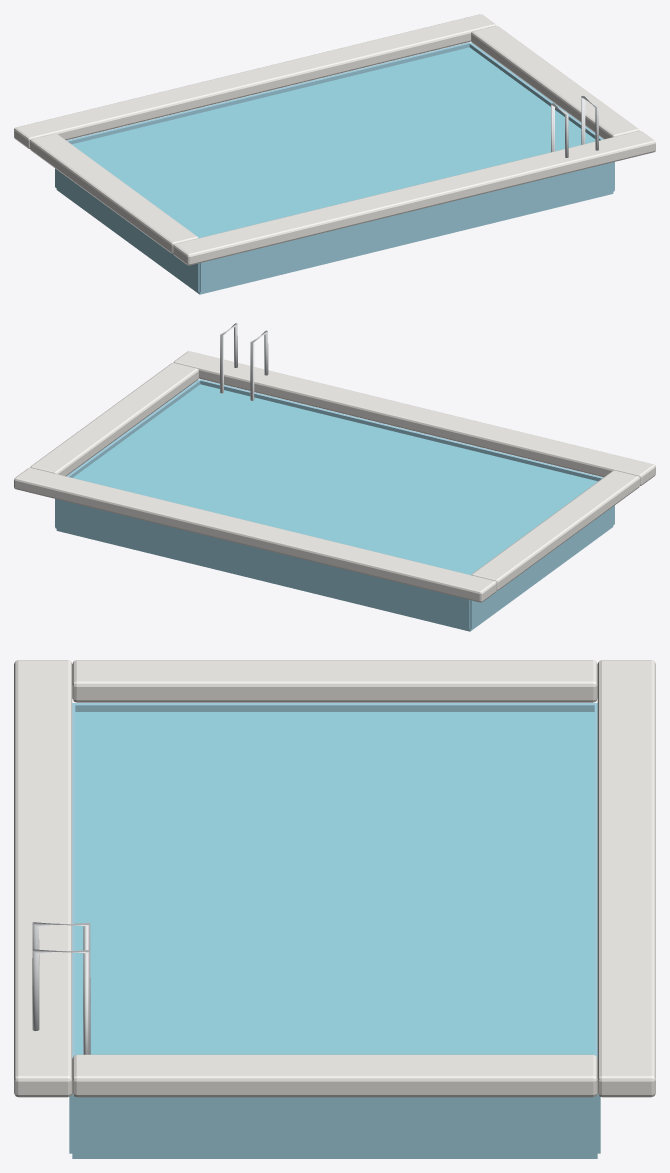
File: piscina.glb
3 views of the same model, one above another, from view 1: azimuth 30°, elevation 25°; view 2: azimuth 150°, elevation 25°; view 3: azimuth 270°, elevation 25° (orthographic). The views are drawn at different scales.
Parts seen in each view (by area): view 1: piscina; view 2: piscina; view 3: piscina.
Part boxes in pixels (bbox=[...]): piscina: bbox=[14, 14, 655, 294]; piscina: bbox=[14, 323, 655, 631]; piscina: bbox=[14, 660, 655, 1158].
Bounding box in the file's own units: 6.8 × 1.4 × 4.4.
